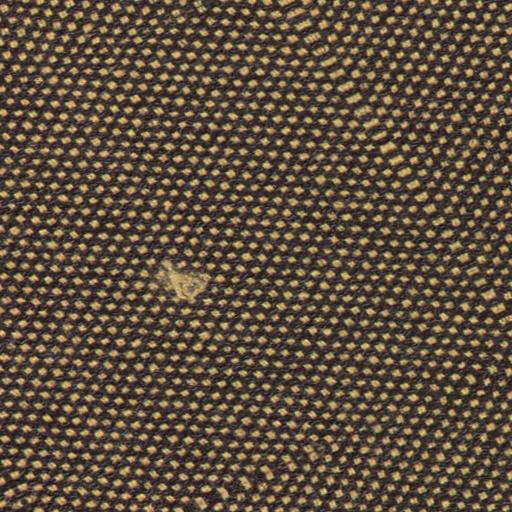knot: (153, 253, 221, 315)
